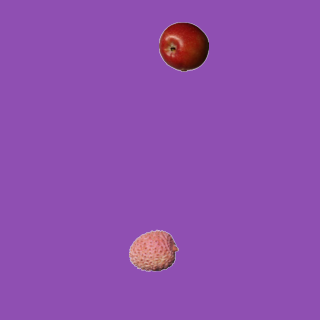Apple Braeburn: (158, 21, 208, 71)
Lychee: (128, 225, 178, 275)
